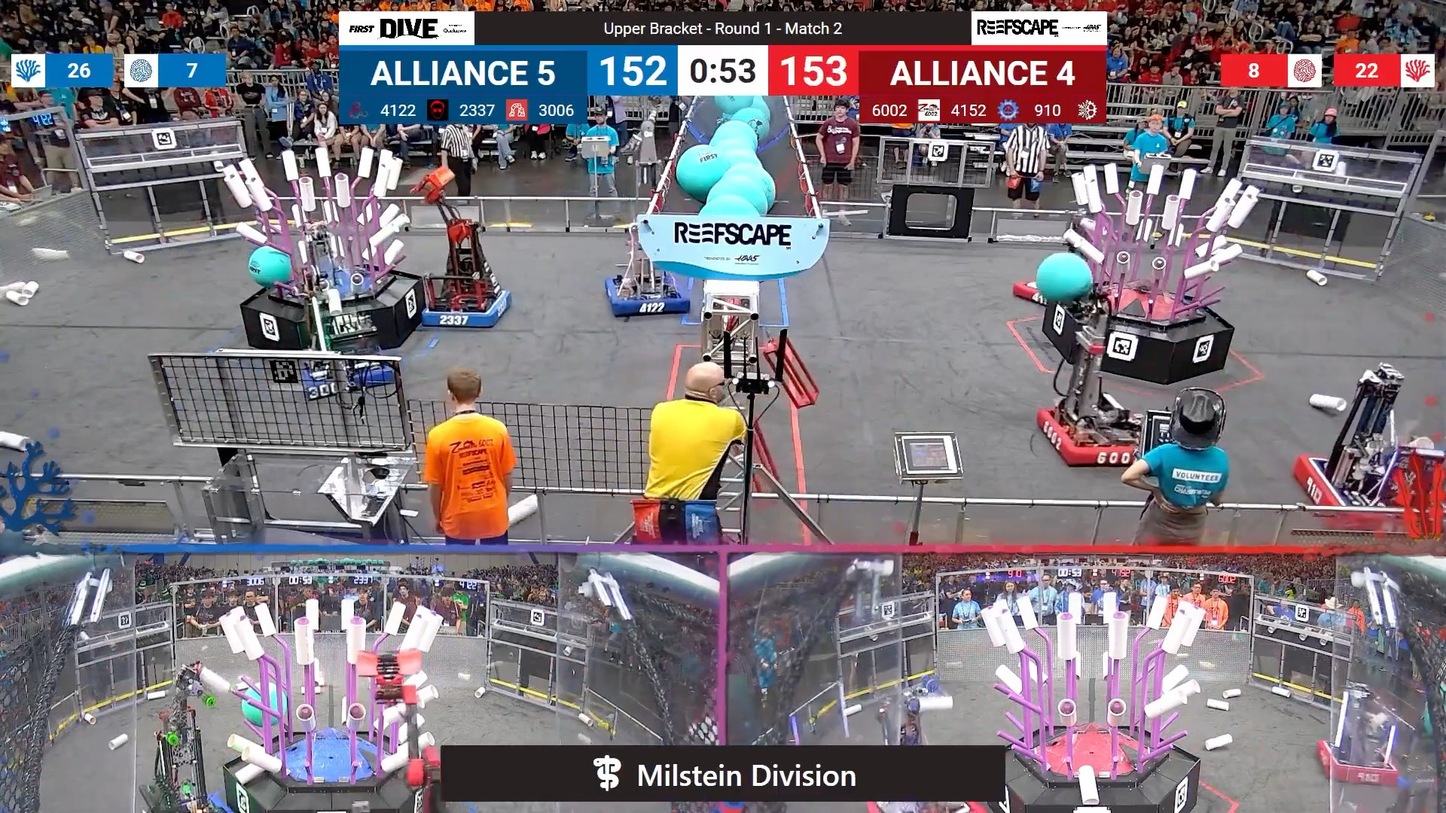bumpers: (1284, 449, 1444, 536), (1029, 402, 1157, 471), (413, 277, 516, 334), (1310, 736, 1410, 793), (296, 346, 404, 394), (599, 270, 695, 321), (1007, 273, 1045, 311)
